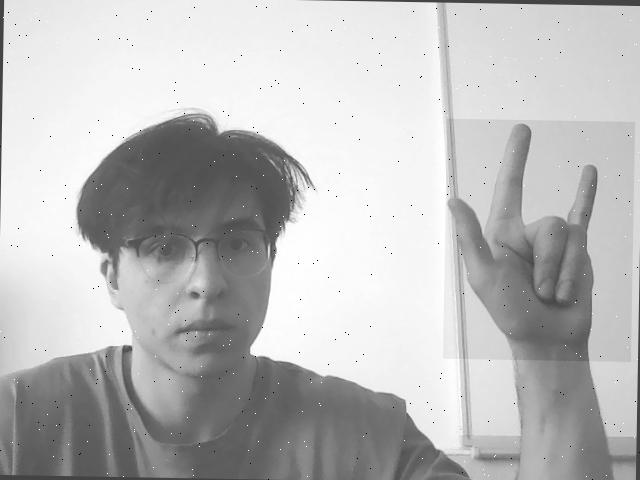I_Love_You: (443, 118, 635, 362)
